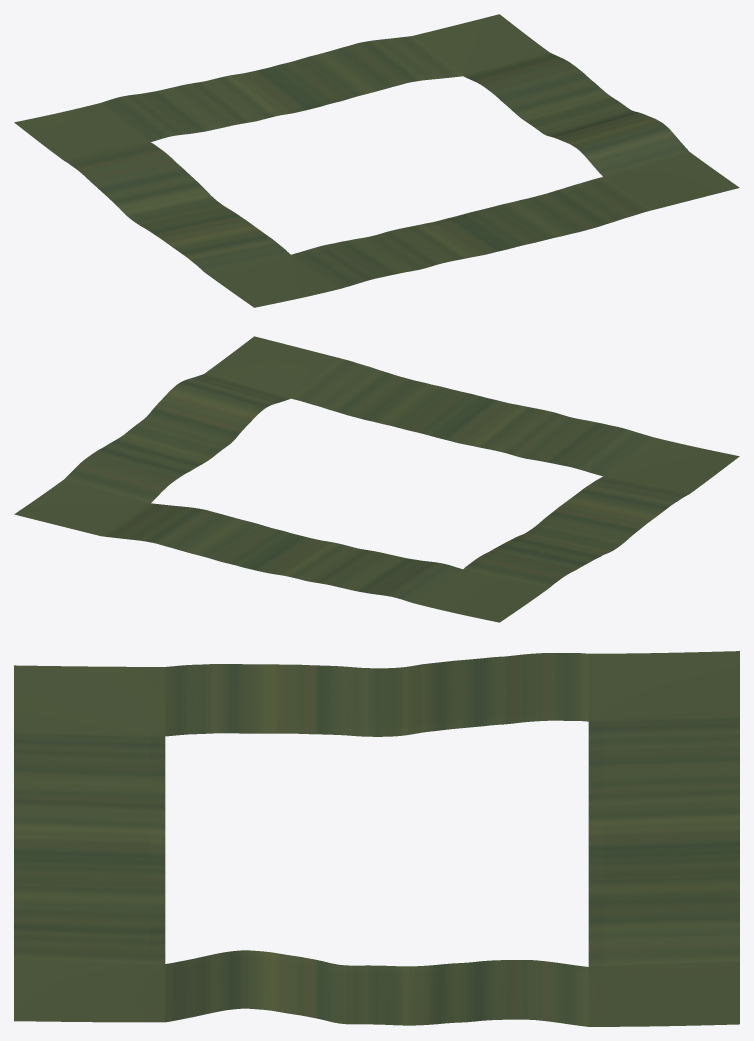
The model's file is DEC07_jupe_foret_HORS_JEU.glb.
3 renders of one model, top to bottom at view 1: azimuth 30°, elevation 25°; view 2: azimuth 150°, elevation 25°; view 3: azimuth 270°, elevation 25°, orthographic. The views are drawn at different scales.
Visible parts, largest first — view 1: world; view 2: world; view 3: world.
Boxes of the visible parts, x1,y1,x2,y2 form: world: (14,14,739,307); world: (14,336,739,622); world: (14,651,739,1026).
Bounding box in the file's own units: 56 × 1.82 × 48.
1 material, 1 textured.
